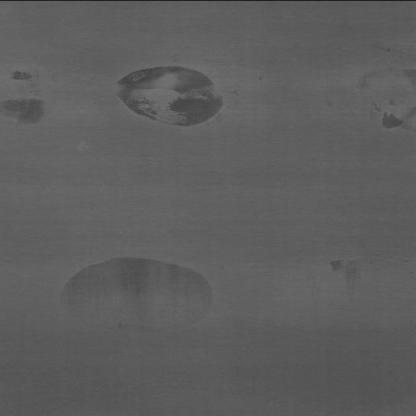oil_spot: (50, 255, 214, 335), (110, 64, 234, 128), (356, 62, 416, 133), (2, 94, 50, 127), (327, 255, 359, 284), (6, 70, 36, 81)
